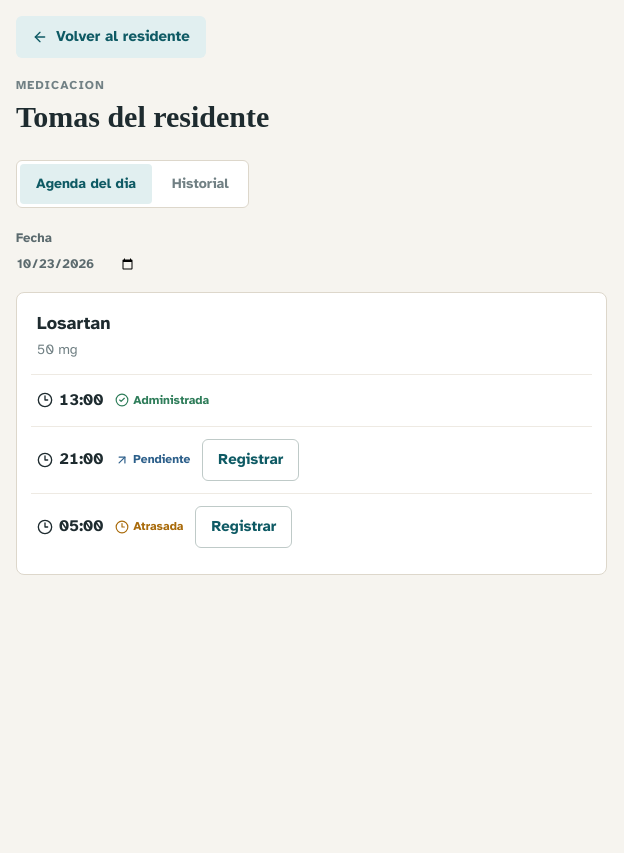
it: TomasResidente › exige un motivo al registrar una toma como OMITIDA
The width and height of the screenshot is (624, 853).
El primer slot registrable es el PENDIENTE (16:00).
Click the button "Registrar" in the row of "21:00" at x=251, y=460, box [202, 439, 299, 481]
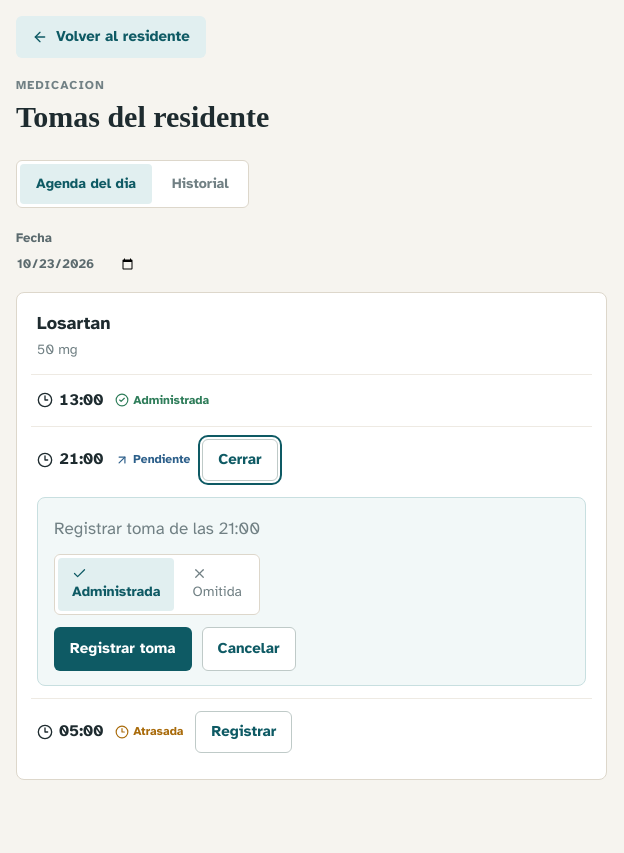
Click the button "Omitida" at x=217, y=584, box [178, 558, 256, 611]
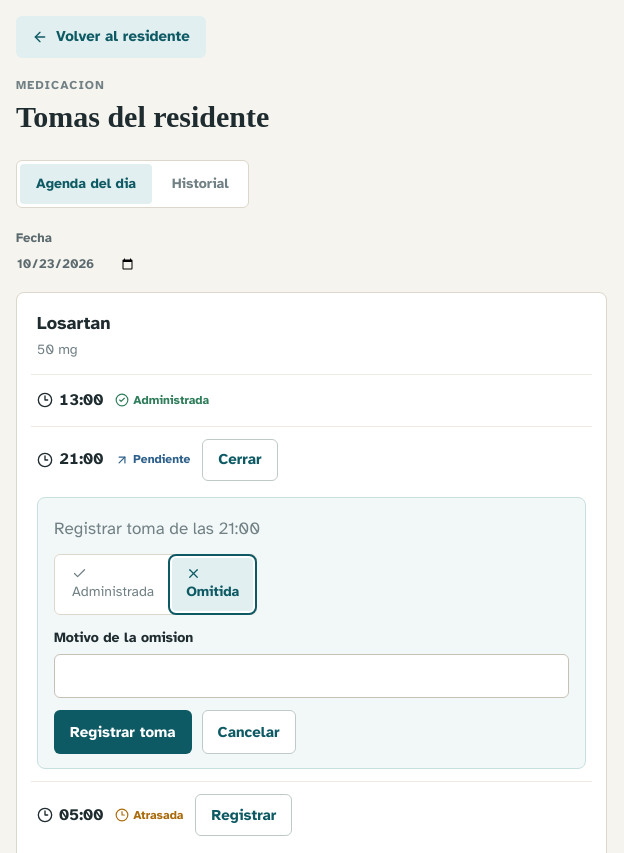
Click the button "Registrar toma" at x=123, y=732, box [54, 710, 192, 754]
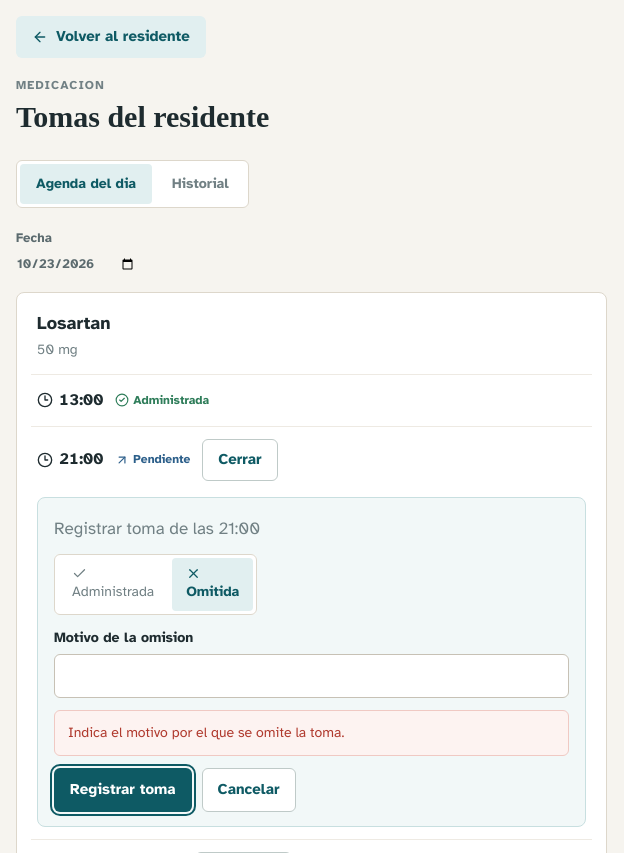
Expected: the text "Indica el motivo por el que se omite la toma." is shown, [54, 710, 569, 756]
